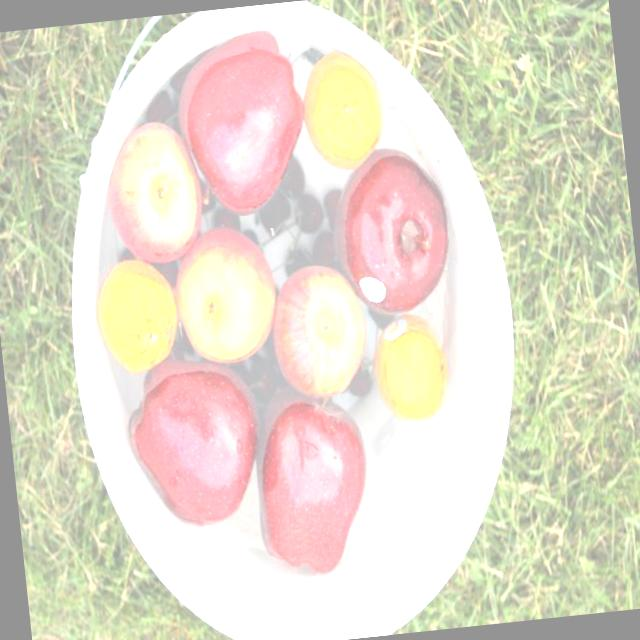Apple: (170, 27, 314, 219), (122, 350, 272, 531), (248, 383, 378, 578), (325, 144, 456, 320), (165, 222, 278, 371), (98, 121, 202, 270), (266, 260, 370, 398)
Orange: (92, 255, 183, 377), (297, 49, 387, 172), (370, 310, 452, 424)
